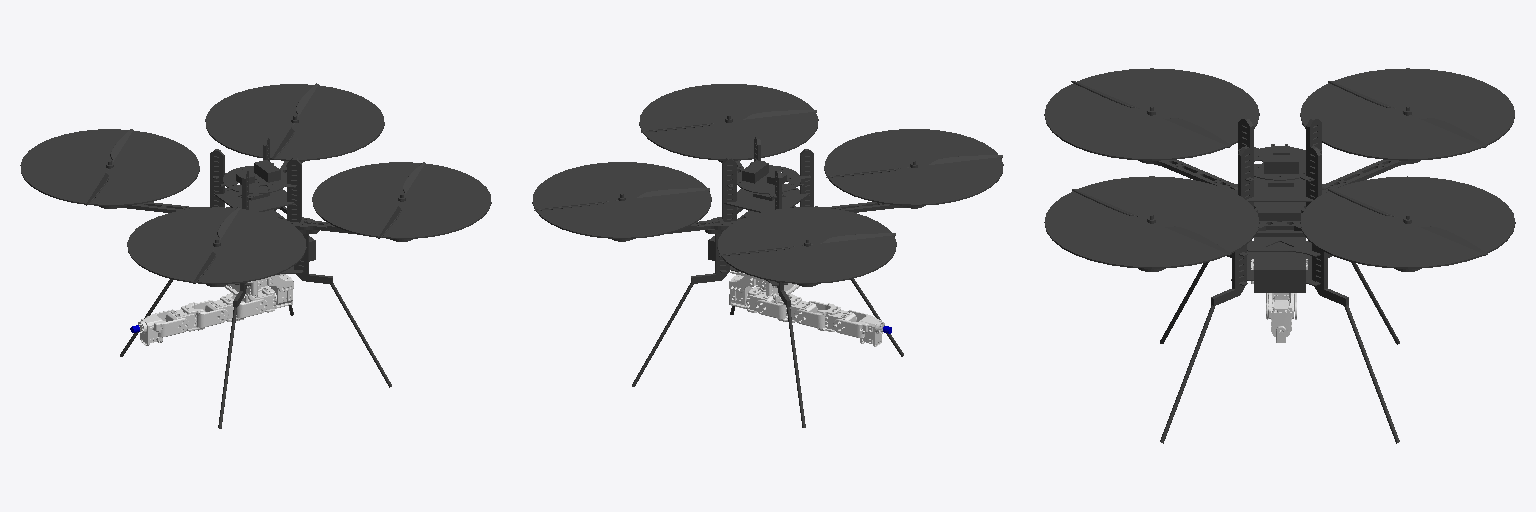
--- Facts derived from the render (not from the file) ---
Views: 3 orthographic renders of the robot side by side, from view 1: azimuth 30°, elevation 25°; view 2: azimuth 150°, elevation 25°; view 3: azimuth 270°, elevation 25°.
Robot: kinton — 13 links, 12 joints (6 revolute, 6 fixed); root link base_link; default pose: every joint at zero.
Visible links, largest first — view 1: base_link, link4, link5, link3, link1; view 2: base_link, link4, link5, link3, link1; view 3: base_link, link1, gps.
Link boxes in pixels (<box>): base_link: <box>20,83,491,428</box>; link4: <box>165,300,228,331</box>; link5: <box>140,309,188,345</box>; link3: <box>205,293,267,321</box>; link1: <box>250,275,293,304</box>; base_link: <box>532,84,1003,427</box>; link4: <box>794,301,856,331</box>; link5: <box>833,310,881,346</box>; link3: <box>755,294,817,322</box>; link1: <box>729,275,772,305</box>; base_link: <box>1044,68,1515,443</box>; link1: <box>1268,293,1293,336</box>; gps: <box>1264,155,1298,173</box>.
Bounding box of the posed robot: 0.5472 × 0.5474 × 0.3343 m (x, y, z).
Meshes: 8 distinct files referenced, 8 mesh visuals loaded (8 Collada DAE).

The robot description file, URDF, robot "kinton":
<?xml version="1.0" ?>
<!-- =================================================================================== -->
<!-- |    This document was autogenerated by xacro from kinton_arm.xacro               | -->
<!-- |    EDITING THIS FILE BY HAND IS NOT RECOMMENDED                                 | -->
<!-- =================================================================================== -->
<robot name="kinton" xmlns:xacro="http://ros.org/wiki/xacro">
  <!--  Be sure the parameter server has the correct chain joints 
        <param name="root_name" value="base_link" />  
        <param name="tip_name" value="arm_joint6" />  -->
  <material name="black">
    <color rgba="0.15 0.15 0.15 1.0"/>
  </material>
  <material name="blue">
    <color rgba="0.17 0.3 0.56 1.0"/>
  </material>
  <material name="orange">
    <color rgba="0.93 0.44 0.01 1.0"/>
  </material>
  <material name="green">
    <color rgba="0.0 0.8 0.0 1.0"/>
  </material>
  <material name="grey">
    <color rgba="0.3 0.3 0.3 1.0"/>
  </material>
  <material name="grey2">
    <color rgba="0.7 0.7 0.7 1.0"/>
  </material>
  <material name="grey3">
    <color rgba="0.9 0.9 0.9 1.0"/>
  </material>
  <material name="red">
    <color rgba="0.8 0.0 0.0 1.0"/>
  </material>
  <material name="white">
    <color rgba="0.9 0.9 0.9 1.0"/>
  </material>
  <link name="base_link">
    <inertial>
      <mass value="1.477"/>
      <origin xyz="0 0 0"/>
      <inertia ixx="0.01152" ixy="0.0" ixz="0.0" iyy="0.01152" iyz="0.0" izz="0.0218"/>
    </inertial>
    <visual>
      <origin rpy="0.0 0.0 0.0" xyz="0.0 0.0 0.0"/>
      <geometry>
        <mesh filename="package://kinton_description/meshes/kinton/kinton2.dae" scale="1 1 1"/>
      </geometry>
      <material name="grey"/>
    </visual>
    <collision>
      <origin rpy="0.0 0.0 0.0" xyz="0.0 0.0 0.0"/>
      <geometry>
        <mesh filename="package://kinton_description/meshes/kinton/kinton2.stl" scale="1 1 1"/>
      </geometry>
    </collision>
  </link>
  <!-- Base footprint -->
  <!--   <link name="base_footprint">
    <inertial>
      <mass value="0.01" />
      <origin xyz="0 0 -0.195" rpy="0 0 0"/>
      <inertia ixx="0.001"  ixy="0.0"  ixz="0.0" iyy="0.001"  iyz="0.0" izz="0.001" />
    </inertial>
    <visual>
      <origin xyz="0 0 0" rpy="0 0 0"/>
      <geometry>
        <box size="0.00001 0.00001 0.00001" />
      </geometry>
      <material name="grey"/>
    </visual>
  </link>
  <joint name="base_link_to_base_footprint" type="fixed">
    <parent link="base_link"/>
    <child link="base_footprint"/>
    <origin xyz="0.00 0.00 -0.195" rpy="0.0 0.0 0.0"/>
  </joint>   -->
  <!-- COMPASS -->
  <link name="compass">
    <inertial>
      <mass value="0.01"/>
      <origin rpy="0.0 0.0 2.35619449019" xyz="0.0 0.0 0.0"/>
      <inertia ixx="0.001" ixy="0.0" ixz="0.0" iyy="0.001" iyz="0.0" izz="0.001"/>
    </inertial>
    <visual>
      <geometry>
        <box size="0.02 0.02 0.01"/>
      </geometry>
      <origin rpy="0.0 0.0 2.35619449019" xyz="0.0 0.0 0.0"/>
      <material name="grey"/>
    </visual>
    <collision>
      <origin rpy="0.0 0.0 2.35619449019" xyz="0.0 0.0 0.0"/>
      <geometry>
        <box size="0.02 0.02 0.01"/>
      </geometry>
    </collision>
  </link>
  <joint name="base_link_to_compass" type="fixed">
    <parent link="base_link"/>
    <child link="compass"/>
    <origin rpy="0.0 0.0 -2.35619449019" xyz="-0.015 0.0 0.066"/>
  </joint>
  <gazebo>
    <plugin filename="libhector_gazebo_ros_magnetic.so" name="magnetic_sim">
      <alwaysOn>true</alwaysOn>
      <updateRate>10.0</updateRate>
      <bodyName>base_link</bodyName>
      <topicName>kinton/magnetic</topicName>
      <offset>0 0 0</offset>
      <drift>0.0 0.0 0.0</drift>
      <driftFrequency>0.0 0.0 0.0</driftFrequency>
      <gaussianNoise>1.3e-2 1.3e-2 1.3e-2</gaussianNoise>
    </plugin>
  </gazebo>
  <gazebo reference="compass">
    <material>Gazebo/Black</material>
    <turnGravityOff>true</turnGravityOff>
  </gazebo>
  <!-- GYROS -->
  <link name="imu">
    <inertial>
      <mass value="0.01"/>
      <origin rpy="0.0 0.0 2.35619449019" xyz="0.0 0.0 0.0"/>
      <inertia ixx="0.001" ixy="0.0" ixz="0.0" iyy="0.001" iyz="0.0" izz="0.001"/>
    </inertial>
    <visual>
      <geometry>
        <box size="0.03 0.03 0.005"/>
      </geometry>
      <origin rpy="0.0 0.0 2.35619449019" xyz="0.0 0.0 0.0"/>
      <material name="grey"/>
    </visual>
    <collision>
      <origin rpy="0.0 0.0 2.35619449019" xyz="0.0 0.0 0.0"/>
      <geometry>
        <box size="0.03 0.03 0.005"/>
      </geometry>
    </collision>
  </link>
  <joint name="base_link_to_imu" type="fixed">
    <parent link="base_link"/>
    <child link="imu"/>
    <origin rpy="0.0 0.0 0.785398163397" xyz="0.0 0.0 0.04"/>
  </joint>
  <gazebo>
    <plugin filename="libhector_gazebo_ros_imu.so" name="imu_sim">
      <alwaysOn>true</alwaysOn>
      <updateRate>100.0</updateRate>
      <bodyName>base_link</bodyName>
      <frameId>kinton/imu</frameId>
      <topicName>kinton/imu_raw</topicName>
      <rpyOffsets>0 0 0</rpyOffsets>
      <!-- deprecated -->
      <gaussianNoise>0</gaussianNoise>
      <!-- deprecated -->
      <accelDrift>0.5 0.5 0.5</accelDrift>
      <accelOffset>0.0 0.0 0.0</accelOffset>
      <accelDriftFrequency>0.0 0.0 0.0</accelDriftFrequency>
      <accelGaussianNoise>0.35 0.35 0.3</accelGaussianNoise>
      <rateDrift>0.0 0.0 0.0</rateDrift>
      <rateOffset>0.0 0.0 0.0</rateOffset>
      <rateDriftFrequency>0.0 0.0 0.0</rateDriftFrequency>
      <rateGaussianNoise>0.00 0.00 0.00</rateGaussianNoise>
      <headingDrift>0.0</headingDrift>
      <headingGaussianNoise>0.00</headingGaussianNoise>
      <headingOffset>0.0</headingOffset>
      <headingDriftFrequency>0.0</headingDriftFrequency>
    </plugin>
  </gazebo>
  <gazebo reference="imu">
    <material>Gazebo/Black</material>
    <turnGravityOff>true</turnGravityOff>
  </gazebo>
  <gazebo>
    <plugin filename="libgazebo_ros_p3d.so" name="odom_sim">
      <alwaysOn>true</alwaysOn>
      <updateRate>100.0</updateRate>
      <bodyName>base_link</bodyName>
      <topicName>kinton/odom</topicName>
      <gaussianNoise>0.0</gaussianNoise>
      <frameName>world</frameName>
    </plugin>
  </gazebo>
  <!-- GPS -->
  <link name="gps">
    <inertial>
      <mass value="0.01"/>
      <origin rpy="0.0 0.0 0.0" xyz="0.0 0.0 0.0"/>
      <inertia ixx="0.001" ixy="0.0" ixz="0.0" iyy="0.001" iyz="0.0" izz="0.001"/>
    </inertial>
    <visual>
      <geometry>
        <box size="0.02 0.04 0.02"/>
      </geometry>
      <origin rpy="0.0 0.0 0.0" xyz="0.0 0.0 0.0"/>
      <material name="grey"/>
    </visual>
    <collision>
      <origin rpy="0.0 0.0 0.0" xyz="0.0 0.0 0.0"/>
      <geometry>
        <box size="0.02 0.04 0.02"/>
      </geometry>
    </collision>
  </link>
  <joint name="base_link_to_gps" type="fixed">
    <parent link="base_link"/>
    <child link="gps"/>
    <origin rpy="0.0 0.0 0.0" xyz="0.02 0.0 0.066"/>
  </joint>
  <gazebo>
    <plugin filename="libhector_gazebo_ros_gps.so" name="gps_sim">
      <alwaysOn>true</alwaysOn>
      <updateRate>5.0</updateRate>
      <bodyName>base_link</bodyName>
      <topicName>kinton/fix</topicName>
      <velocityTopicName>kinton/fix_velocity</velocityTopicName>
      <referenceLatitude>41.3851</referenceLatitude>
      <referenceLongitude>2.1734</referenceLongitude>
      <referenceAltitude>5.0</referenceAltitude>
      <referenceHeading>0.0</referenceHeading>
      <!--TEST 90 for testing with robot_pose_ekf -->
      <offset>0 0 0</offset>
      <drift>5.0 5.0 5.0</drift>
      <driftFrequency>0.0 0.0 0.0</driftFrequency>
      <gaussianNoise>0.1 0.1 0.1</gaussianNoise>
      <velocityOffset>0 0 0</velocityOffset>
      <velocityDrift>0 0 0</velocityDrift>
      <velocityDriftFrequency>0 0 0</velocityDriftFrequency>
      <velocityGaussianNoise>0.1 0.1 0.1</velocityGaussianNoise>
    </plugin>
  </gazebo>
  <gazebo reference="gps">
    <material>Gazebo/Black</material>
    <turnGravityOff>true</turnGravityOff>
  </gazebo>
  <!-- WITHOUT ARM -->
  <!-- <gazebo>
      <plugin name="quadrotor_simple_controller" filename="libkinton_gazebo.so">
        <alwaysOn>true</alwaysOn>
        <updateRate>0.0</updateRate>
        <bodyName>base_link</bodyName>
        <stateTopic>${prefix}/odom</stateTopic>
        <imuTopic>${prefix}/imu_raw</imuTopic>
        <cmdvelTopic>${prefix}/cmd_vel</cmdvelTopic>
        <mavctrlTopic>fcu/control</mavctrlTopic>
        <rollpitchProportionalGain>10.0</rollpitchProportionalGain>
        <rollpitchDifferentialGain>5.0</rollpitchDifferentialGain>
        <rollpitchLimit>0.5</rollpitchLimit>
        <yawProportionalGain>2.0</yawProportionalGain>
        <yawDifferentialGain>1.0</yawDifferentialGain>
        <yawLimit>1.0</yawLimit>
        <velocityXYProportionalGain>5.0</velocityXYProportionalGain>
        <velocityXYDifferentialGain>1.0</velocityXYDifferentialGain>
        <velocityXYLimit>1.0</velocityXYLimit>
        <velocityZProportionalGain>50.0</velocityZProportionalGain>
        <velocityZDifferentialGain>1.1</velocityZDifferentialGain>
        <velocityZLimit>1.0</velocityZLimit>
        <maxForce>30</maxForce>
        <motionSmallNoise>0.05</motionSmallNoise>
        <motionDriftNoise>0.03</motionDriftNoise>
        <motionDriftNoiseTime>5.0</motionDriftNoiseTime>
      </plugin>
    </gazebo> -->
  <!-- WITH ARM >> NOT TUNNED -->
  <gazebo>
    <plugin filename="libkinton_gazebo.so" name="quadrotor_simple_controller">
      <alwaysOn>true</alwaysOn>
      <updateRate>0.0</updateRate>
      <bodyName>base_link</bodyName>
      <stateTopic>kinton/odom</stateTopic>
      <imuTopic>kinton/imu_raw</imuTopic>
      <cmdvelTopic>kinton/cmd_vel</cmdvelTopic>
      <mavctrlTopic>fcu/control</mavctrlTopic>
      <rollpitchProportionalGain>10.0</rollpitchProportionalGain>
      <rollpitchDifferentialGain>5.0</rollpitchDifferentialGain>
      <rollpitchLimit>0.5</rollpitchLimit>
      <yawProportionalGain>2.0</yawProportionalGain>
      <yawDifferentialGain>1.0</yawDifferentialGain>
      <yawLimit>1.0</yawLimit>
      <velocityXYProportionalGain>5.0</velocityXYProportionalGain>
      <velocityXYDifferentialGain>1.0</velocityXYDifferentialGain>
      <velocityXYLimit>1.0</velocityXYLimit>
      <velocityZProportionalGain>50.0</velocityZProportionalGain>
      <velocityZDifferentialGain>1.1</velocityZDifferentialGain>
      <velocityZLimit>1.0</velocityZLimit>
      <maxForce>30</maxForce>
      <motionSmallNoise>0.05</motionSmallNoise>
      <motionDriftNoise>0.03</motionDriftNoise>
      <motionDriftNoiseTime>5.0</motionDriftNoiseTime>
    </plugin>
  </gazebo>
  <!-- Kinton-Arm joint -->
  <joint name="fixed" type="fixed">
    <parent link="base_link"/>
    <child link="arm_base"/>
    <origin rpy="0 0 0" xyz="0 0 -0.09"/>
  </joint>
  <!-- Arm Base -->
  <link name="arm_base">
    <collision>
      <origin rpy="0 0 0" xyz="0 0 0.0"/>
      <geometry>
        <mesh filename="package://kinton_description/meshes/arm/base.stl"/>
      </geometry>
      <contact_coefficients kd="1.0" kp="1000.0" mu="0"/>
    </collision>
    <visual>
      <origin rpy="0 0 0" xyz="0 0 0.0"/>
      <geometry>
        <mesh filename="package://kinton_description/meshes/arm/base.dae"/>
      </geometry>
      <material name="white"/>
    </visual>
    <inertial>
      <origin rpy="0 0 0" xyz="0 0 0.0"/>
      <mass value="0.0002"/>
      <inertia ixx="0.01" ixy="0.0" ixz="0.0" iyy="0.01" iyz="0.0" izz="0.01"/>
    </inertial>
  </link>
  <joint name="joint1" type="revolute">
    <parent link="arm_base"/>
    <child link="link1"/>
    <origin rpy="3.14159265359 0 3.14159265359" xyz="0.0 0.0 0.0"/>
    <axis xyz="0 0 1"/>
    <limit effort="1.0" lower="-0.35" upper="0.35" velocity="1.0"/>
    <dynamics damping="1.0"/>
  </joint>
  <transmission name="tran1">
    <type>transmission_interface/SimpleTransmission</type>
    <joint name="joint1">
      <hardwareInterface>hardware_interface/EffortJointInterface</hardwareInterface>
    </joint>
    <actuator name="motor1">
      <hardwareInterface>hardware_interface/EffortJointInterface</hardwareInterface>
      <mechanicalReduction>1</mechanicalReduction>
    </actuator>
  </transmission>
  <!-- Link1 -->
  <link name="link1">
    <collision>
      <origin rpy="0 0 0" xyz="0 0 0"/>
      <geometry>
        <mesh filename="package://kinton_description/meshes/arm/link1.stl"/>
      </geometry>
      <contact_coefficients kd="1.0" kp="1000.0" mu="0"/>
    </collision>
    <visual>
      <origin rpy="0 0 0" xyz="0 0 0"/>
      <geometry>
        <mesh filename="package://kinton_description/meshes/arm/link1.dae"/>
      </geometry>
      <material name="white"/>
    </visual>
    <inertial>
      <origin rpy="0 0 0" xyz="0 0 0"/>
      <mass value="0.0002"/>
      <inertia ixx="0.01" ixy="0.0" ixz="0.0" iyy="0.01" iyz="0.0" izz="0.01"/>
    </inertial>
  </link>
  <joint name="joint2" type="revolute">
    <parent link="link1"/>
    <child link="link2"/>
    <origin rpy="-1.57079632679 0 -1.57079632679" xyz="0 0 0.038"/>
    <axis xyz="0 0 1"/>
    <limit effort="1.0" lower="-0.523" upper="0.523" velocity="1.0"/>
    <dynamics damping="1.0"/>
  </joint>
  <transmission name="tran2">
    <type>transmission_interface/SimpleTransmission</type>
    <joint name="joint2">
      <hardwareInterface>hardware_interface/EffortJointInterface</hardwareInterface>
    </joint>
    <actuator name="motor2">
      <hardwareInterface>hardware_interface/EffortJointInterface</hardwareInterface>
      <mechanicalReduction>1</mechanicalReduction>
    </actuator>
  </transmission>
  <!-- Link2 -->
  <link name="link2">
    <collision>
      <origin rpy="0 0 0" xyz="0 0 0"/>
      <geometry>
        <mesh filename="package://kinton_description/meshes/arm/link2.stl"/>
      </geometry>
      <contact_coefficients kd="1.0" kp="1000.0" mu="0"/>
    </collision>
    <visual>
      <origin rpy="0 0 0" xyz="0 0 0"/>
      <geometry>
        <mesh filename="package://kinton_description/meshes/arm/link2.dae"/>
      </geometry>
      <material name="white"/>
    </visual>
    <inertial>
      <origin rpy="0 0 0" xyz="0 0 0"/>
      <mass value="0.0002"/>
      <inertia ixx="0.01" ixy="0.0" ixz="0.0" iyy="0.01" iyz="0.0" izz="0.01"/>
    </inertial>
  </link>
  <joint name="joint3" type="revolute">
    <parent link="link2"/>
    <child link="link3"/>
    <origin rpy="-1.57079632679 0 -1.57079632679" xyz="0 0 0"/>
    <axis xyz="0 0 1"/>
    <!-- <limit effort="1.0" lower="-0.35" upper="1.92" velocity="1.0"/> -->
    <limit effort="1.0" lower="0.0" upper="1.5" velocity="1.0"/>
    <dynamics damping="1.0"/>
  </joint>
  <transmission name="tran3">
    <type>transmission_interface/SimpleTransmission</type>
    <joint name="joint3">
      <hardwareInterface>hardware_interface/EffortJointInterface</hardwareInterface>
    </joint>
    <actuator name="motor3">
      <hardwareInterface>hardware_interface/EffortJointInterface</hardwareInterface>
      <mechanicalReduction>1</mechanicalReduction>
    </actuator>
  </transmission>
  <!-- Link3 -->
  <link name="link3">
    <collision>
      <origin rpy="0 0 0" xyz="0 0 0"/>
      <geometry>
        <mesh filename="package://kinton_description/meshes/arm/link3.stl"/>
      </geometry>
      <contact_coefficients kd="1.0" kp="1000.0" mu="0"/>
    </collision>
    <visual>
      <origin rpy="0 0 0" xyz="0 0 0"/>
      <geometry>
        <mesh filename="package://kinton_description/meshes/arm/link3.dae"/>
      </geometry>
      <material name="white"/>
    </visual>
    <inertial>
      <origin rpy="0 0 0" xyz="0 0 0"/>
      <mass value="0.0002"/>
      <inertia ixx="0.01" ixy="0.0" ixz="0.0" iyy="0.01" iyz="0.0" izz="0.01"/>
    </inertial>
  </link>
  <joint name="joint4" type="revolute">
    <parent link="link3"/>
    <child link="link4"/>
    <origin rpy="0 0 -1.57079632679" xyz="0 -0.063 0"/>
    <axis xyz="0 0 1"/>
    <!-- <limit effort="1.0" lower="-2.35" upper="2.35" velocity="1.0"/> -->
    <limit effort="1.0" lower="-2.1" upper="2.1" velocity="1.0"/>
    <dynamics damping="1.0"/>
  </joint>
  <transmission name="tran4">
    <type>transmission_interface/SimpleTransmission</type>
    <joint name="joint4">
      <hardwareInterface>hardware_interface/EffortJointInterface</hardwareInterface>
    </joint>
    <actuator name="motor4">
      <hardwareInterface>hardware_interface/EffortJointInterface</hardwareInterface>
      <mechanicalReduction>1</mechanicalReduction>
    </actuator>
  </transmission>
  <!-- Link4 -->
  <link name="link4">
    <collision>
      <origin rpy="0 0 0" xyz="0 0 0"/>
      <geometry>
        <mesh filename="package://kinton_description/meshes/arm/link4.stl"/>
      </geometry>
      <contact_coefficients kd="1.0" kp="1000.0" mu="0"/>
    </collision>
    <visual>
      <origin rpy="0 0 0" xyz="0 0 0"/>
      <geometry>
        <mesh filename="package://kinton_description/meshes/arm/link4.dae"/>
      </geometry>
      <material name="white"/>
    </visual>
    <inertial>
      <origin rpy="0 0 0" xyz="0 0 0"/>
      <mass value="0.0002"/>
      <inertia ixx="0.01" ixy="0.0" ixz="0.0" iyy="0.01" iyz="0.0" izz="0.01"/>
    </inertial>
  </link>
  <joint name="joint5" type="revolute">
    <parent link="link4"/>
    <child link="link5"/>
    <origin rpy="0 0 0" xyz="0.063 0 0"/>
    <axis xyz="0 0 1"/>
    <limit effort="1.0" lower="-2.35" upper="2.35" velocity="1.0"/>
    <dynamics damping="1.0"/>
  </joint>
  <transmission name="tran5">
    <type>transmission_interface/SimpleTransmission</type>
    <joint name="joint5">
      <hardwareInterface>hardware_interface/EffortJointInterface</hardwareInterface>
    </joint>
    <actuator name="motor5">
      <hardwareInterface>hardware_interface/EffortJointInterface</hardwareInterface>
      <mechanicalReduction>1</mechanicalReduction>
    </actuator>
  </transmission>
  <!-- Link5 -->
  <link name="link5">
    <collision>
      <origin rpy="0 0 0" xyz="0 0 0"/>
      <geometry>
        <mesh filename="package://kinton_description/meshes/arm/link5.stl"/>
      </geometry>
      <contact_coefficients kd="1.0" kp="1000.0" mu="0"/>
    </collision>
    <visual>
      <origin rpy="0 0 0" xyz="0 0 0"/>
      <geometry>
        <mesh filename="package://kinton_description/meshes/arm/link5.dae"/>
      </geometry>
      <material name="white"/>
    </visual>
    <inertial>
      <origin rpy="0 0 0" xyz="0 0 0"/>
      <mass value="0.0002"/>
      <inertia ixx="0.01" ixy="0.0" ixz="0.0" iyy="0.01" iyz="0.0" izz="0.01"/>
    </inertial>
  </link>
  <joint name="joint6" type="revolute">
    <parent link="link5"/>
    <child link="link6"/>
    <origin rpy="1.57079632679 0 1.57079632679" xyz="0.0561 -0.0034 0"/>
    <axis xyz="0 0 1"/>
    <limit effort="1.0" lower="-2.094" upper="2.094" velocity="1.0"/>
    <dynamics damping="1.0"/>
  </joint>
  <transmission name="tran6">
    <type>transmission_interface/SimpleTransmission</type>
    <joint name="joint6">
      <hardwareInterface>hardware_interface/EffortJointInterface</hardwareInterface>
    </joint>
    <actuator name="motor6">
      <hardwareInterface>hardware_interface/EffortJointInterface</hardwareInterface>
      <mechanicalReduction>1</mechanicalReduction>
    </actuator>
  </transmission>
  <!-- Link6 -->
  <link name="link6">
    <collision>
      <origin rpy="0 0 0" xyz="0 0 0"/>
      <geometry>
        <mesh filename="package://kinton_description/meshes/arm/link6.stl"/>
      </geometry>
      <contact_coefficients kd="1.0" kp="1000.0" mu="0"/>
    </collision>
    <visual>
      <origin rpy="0 0 0" xyz="0 0 0"/>
      <geometry>
        <mesh filename="package://kinton_description/meshes/arm/link6.dae"/>
      </geometry>
      <material name="white"/>
    </visual>
    <inertial>
      <origin rpy="0 0 0" xyz="0 0 0"/>
      <mass value="0.0002"/>
      <inertia ixx="0.01" ixy="0.0" ixz="0.0" iyy="0.01" iyz="0.0" izz="0.01"/>
    </inertial>
  </link>
  <!-- ros_control plugin -->
  <gazebo>
    <plugin filename="libgazebo_ros_control.so" name="gazebo_ros_control">
      <robotNamespace>kinton</robotNamespace>
      <robotSimType>gazebo_ros_control/DefaultRobotHWSim</robotSimType>
    </plugin>
  </gazebo>
  <!-- Arm Base -->
  <gazebo reference="arm_base">
    <material>Gazebo/White</material>
    <selfCollide>true</selfCollide>
  </gazebo>
  <!-- Link1 -->
  <gazebo reference="link1">
    <mu1>0.2</mu1>
    <mu2>0.2</mu2>
    <material>Gazebo/White</material>
    <selfCollide>true</selfCollide>
  </gazebo>
  <!-- Link2 -->
  <gazebo reference="link2">
    <mu1>0.2</mu1>
    <mu2>0.2</mu2>
    <material>Gazebo/White</material>
    <selfCollide>true</selfCollide>
  </gazebo>
  <!-- Link3 -->
  <gazebo reference="link3">
    <mu1>0.2</mu1>
    <mu2>0.2</mu2>
    <material>Gazebo/White</material>
    <selfCollide>true</selfCollide>
  </gazebo>
  <!-- Link4 -->
  <gazebo reference="link4">
    <mu1>0.2</mu1>
    <mu2>0.2</mu2>
    <material>Gazebo/White</material>
    <selfCollide>true</selfCollide>
  </gazebo>
  <!-- Link5 -->
  <gazebo reference="link5">
    <mu1>0.2</mu1>
    <mu2>0.2</mu2>
    <material>Gazebo/White</material>
    <selfCollide>true</selfCollide>
  </gazebo>
  <!-- Link6 -->
  <gazebo reference="link6">
    <mu1>0.2</mu1>
    <mu2>0.2</mu2>
    <material>Gazebo/White</material>
    <selfCollide>false</selfCollide>
  </gazebo>
  <joint name="arm_cam_joint" type="fixed">
    <origin rpy="3.14159265359 -1.57079632679 0.0" xyz="0.0 0.0 0.01"/>
    <parent link="link6"/>
    <child link="arm_cam_link"/>
  </joint>
  <link name="arm_cam_link">
    <inertial>
      <mass value="0.0001"/>
      <origin rpy="0 0 0" xyz="0 0 0"/>
      <inertia ixx="0.0001" ixy="0" ixz="0" iyy="0.0001" iyz="0" izz="0.0001"/>
    </inertial>
    <visual>
      <origin rpy="0 1.57079632679 0" xyz="0 0 0"/>
      <geometry>
        <cylinder length="0.01" radius="0.005"/>
      </geometry>
      <material name="Blue">
        <color rgba="0.0 0.0 0.8 1"/>
      </material>
    </visual>
    <collision>
      <origin rpy="0 1.57079632679 0" xyz="0 0 0"/>
      <geometry>
        <cylinder length="0.01" radius="0.005"/>
      </geometry>
    </collision>
  </link>
  <joint name="arm_cam_optical_joint" type="fixed">
    <origin rpy="-1.57079632679 0 -1.57079632679" xyz="0.001 0 0"/>
    <parent link="arm_cam_link"/>
    <child link="arm_cam_optical_frame"/>
  </joint>
  <link name="arm_cam_optical_frame">
    <inertial>
      <mass value="0.0001"/>
      <origin rpy="0 0 0" xyz="0 0 0"/>
      <inertia ixx="0.001" ixy="0.0" ixz="0.0" iyy="0.001" iyz="0.0" izz="0.001"/>
    </inertial>
    <visual>
      <origin rpy="0 0 0" xyz="0 0 0"/>
      <geometry>
        <box size="0.001 0.001 0.001"/>
      </geometry>
    </visual>
    <collision>
      <origin rpy="0 0 0" xyz="0 0 0"/>
      <geometry>
        <box size="0.001 0.001 0.001"/>
      </geometry>
    </collision>
  </link>
  <gazebo reference="arm_cam_link">
    <sensor name="arm_cam_camera_sensor" type="camera">
      <update_rate>25</update_rate>
      <camera name="head">
        <horizontal_fov>1.5708</horizontal_fov>
        <image>
          <width>1280</width>
          <height>960</height>
          <format>R8G8B8</format>
        </image>
        <clip>
          <near>0.01</near>
          <far>100</far>
        </clip>
        <noise>
          <type>gaussian</type>
          <mean>0.0</mean>
          <stddev>0.000</stddev>
        </noise>
      </camera>
      <plugin filename="libgazebo_ros_camera.so" name="camera_plugin">
        <alwaysOn>true</alwaysOn>
        <updateRate>0.0</updateRate>
        <cameraName>kinton/arm_cam</cameraName>
        <imageTopicName>image_raw</imageTopicName>
        <cameraInfoTopicName>camera_info</cameraInfoTopicName>
        <frameName>kinton/arm_cam_optical_frame</frameName>
        <hackBaseline>0.07</hackBaseline>
        <distortionK1>0.0</distortionK1>
        <distortionK2>0.0</distortionK2>
        <distortionK3>0.0</distortionK3>
        <distortionT1>0.0</distortionT1>
        <distortionT2>0.0</distortionT2>
      </plugin>
    </sensor>
    <mu1>0.2</mu1>
    <mu2>0.2</mu2>
    <material>Gazebo/Black</material>
  </gazebo>
  <gazebo>
    <turnGravityOff>false</turnGravityOff>
    <static>false</static>
  </gazebo>
  <!--   <gazebo>
    <turnGravityOff>true</turnGravityOff>
    <static>true</static>      
    <plugin name="ground_truth" filename="libgazebo_ros_p3d.so">
      <frameName>world</frameName>
      <bodyName>${name}_optical_frame</bodyName>
      <topicName>${prefix}/${name}/odom</topicName>
      <updateRate>30.0</updateRate>
    </plugin>
  </gazebo>  
 -->
</robot>
